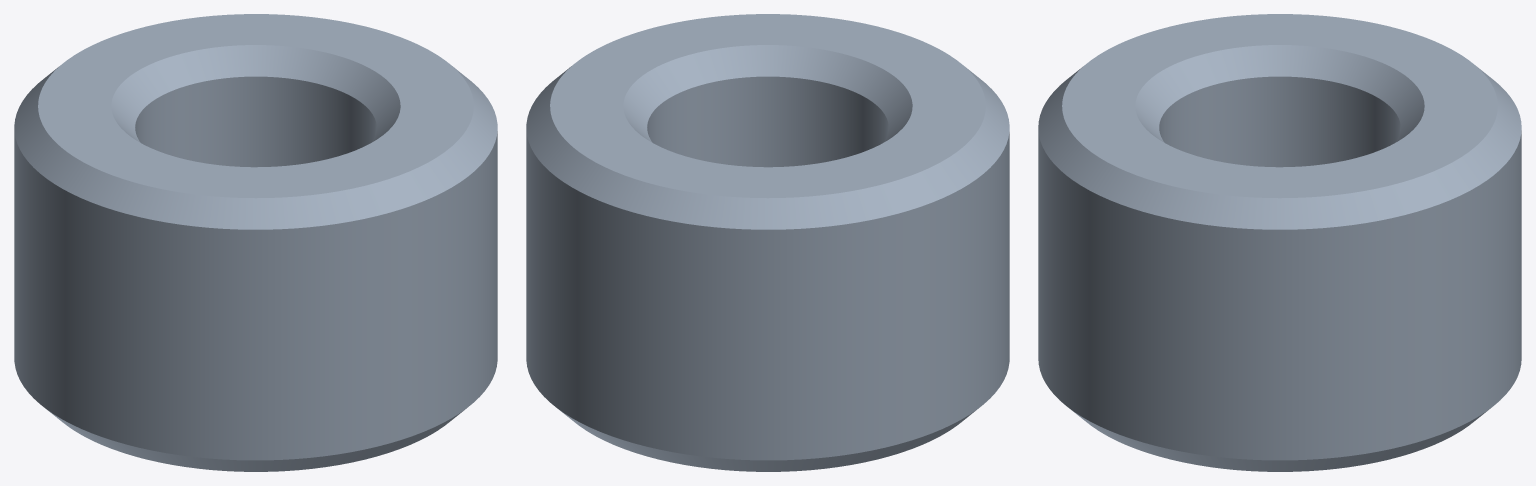
File: piston_bushing.obj
The picture shows the model from 3 angles, left to right: view 1: azimuth 30°, elevation 25°; view 2: azimuth 150°, elevation 25°; view 3: azimuth 270°, elevation 25°; orthographic projection.
Visible parts, largest first — view 1: 1; view 2: 1; view 3: 1.
Boxes of the visible parts, <box> form: 1: <box>14,14,497,471</box>; 1: <box>526,14,1009,471</box>; 1: <box>1038,14,1521,471</box>.
Size of the model in its own units: 50.8 by 31.75 by 50.8.
